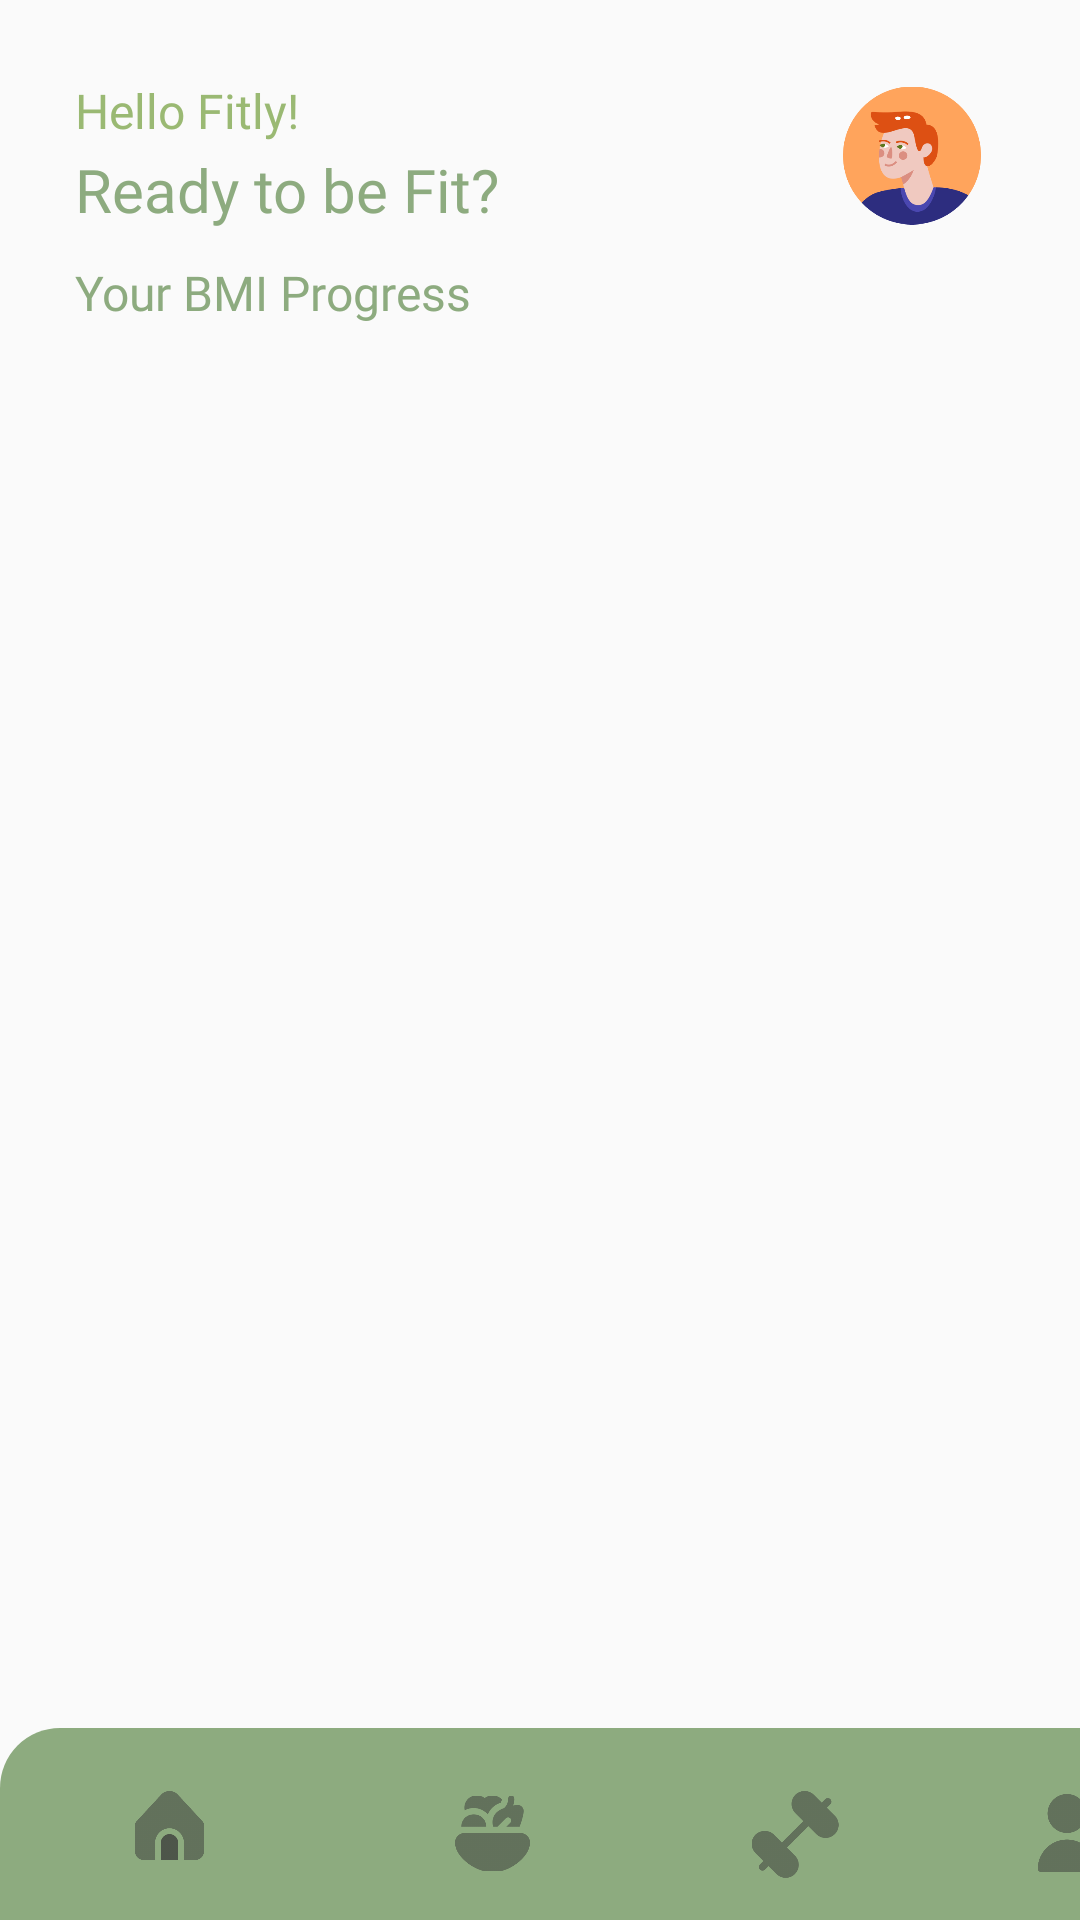

Icons on this 1080 × 1920 Android screen, each with its box as (x1, y1, x2, y2):
exercise: (752, 1791, 839, 1878)
food: (455, 1796, 530, 1871)
home: (135, 1791, 204, 1860)
